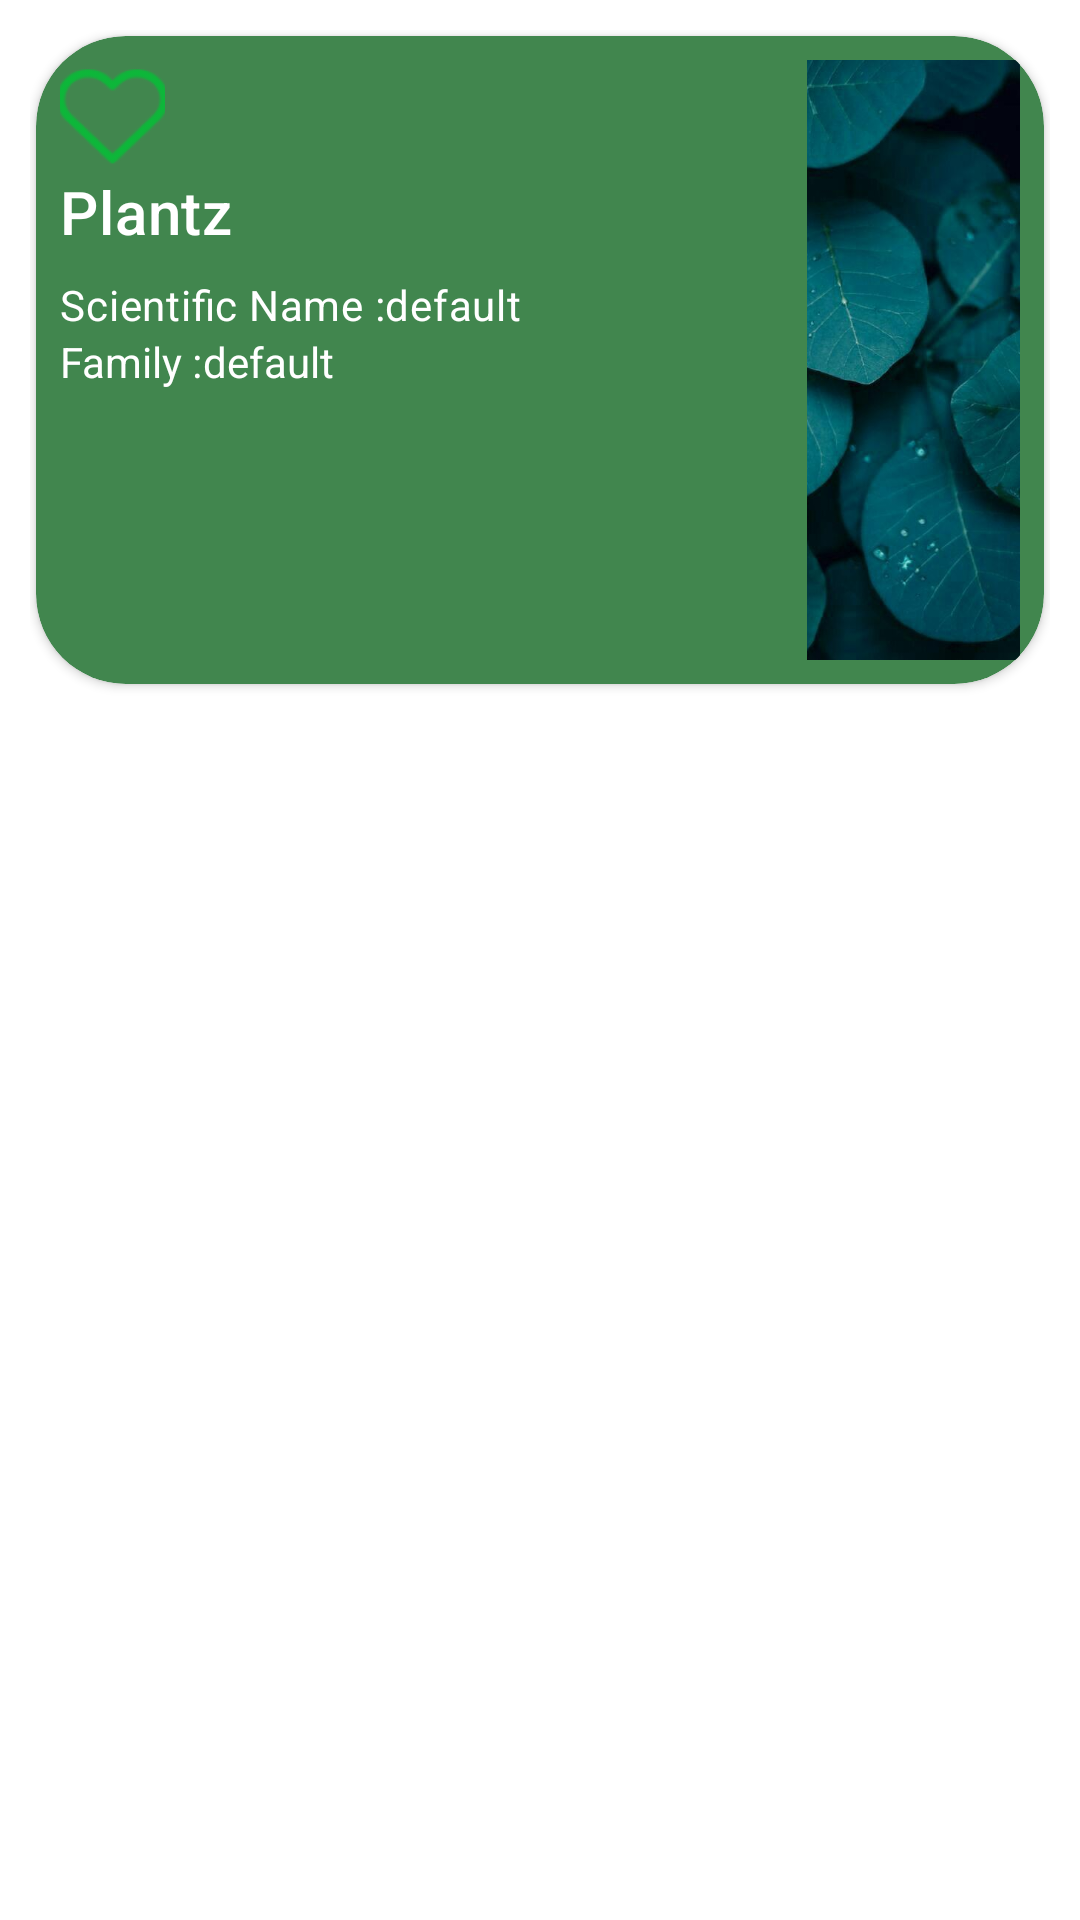

Screen size 1080px×1920px. Icon name, then its box in pixels as (x1, y1, x2, y2):
favo: (60, 69, 165, 163)
